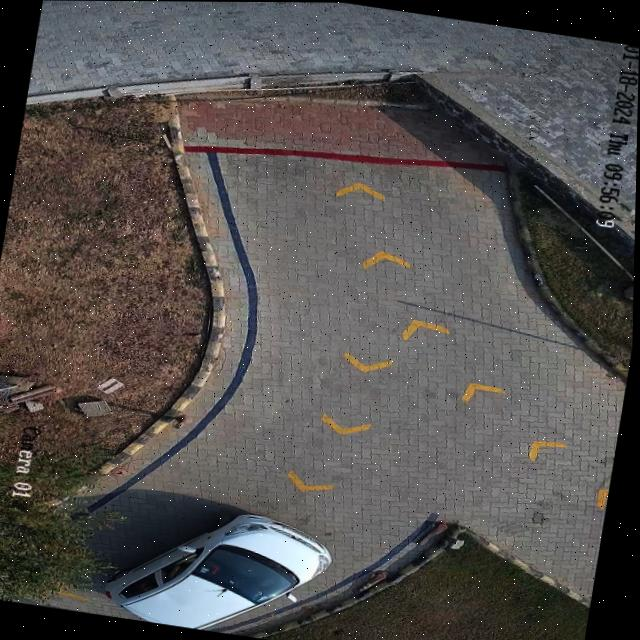car: (109, 513, 333, 630)
